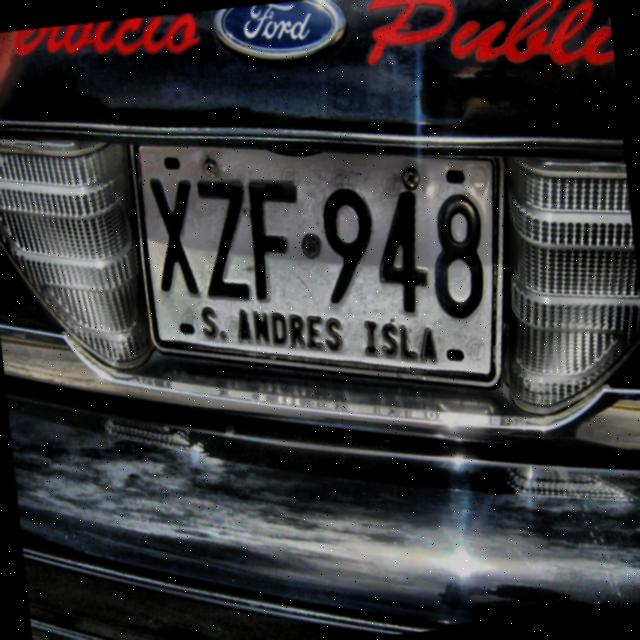plate: (129, 145, 505, 387)
